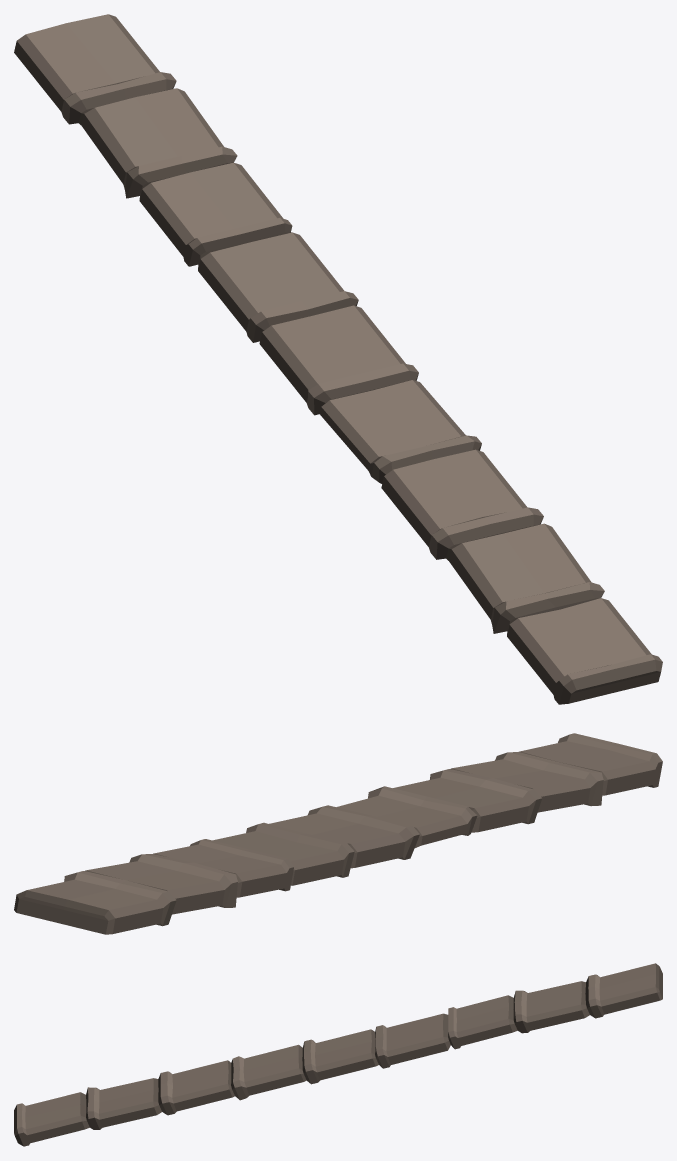
Rendered from ancient_SM_Bld_Roof_Straight_Thin_Large_01_Trim_01.gltf.
The picture shows the model from 3 angles, top to bottom: view 1: azimuth 30°, elevation 25°; view 2: azimuth 150°, elevation 25°; view 3: azimuth 270°, elevation 25°; orthographic projection. The views are drawn at different scales.
Parts seen in each view (by area): view 1: SM_Bld_Roof_Straight_Thin_Large_01_Trim_01; view 2: SM_Bld_Roof_Straight_Thin_Large_01_Trim_01; view 3: SM_Bld_Roof_Straight_Thin_Large_01_Trim_01.
Boxes of the visible parts, x1=… form: SM_Bld_Roof_Straight_Thin_Large_01_Trim_01: x1=14, y1=14, x2=662, y2=704; SM_Bld_Roof_Straight_Thin_Large_01_Trim_01: x1=14, y1=733, x2=662, y2=934; SM_Bld_Roof_Straight_Thin_Large_01_Trim_01: x1=14, y1=963, x2=662, y2=1146.
Size of the model in its own units: 0.8566 by 2.04 by 7.59.
Materials: 1 (1 with a texture image).
